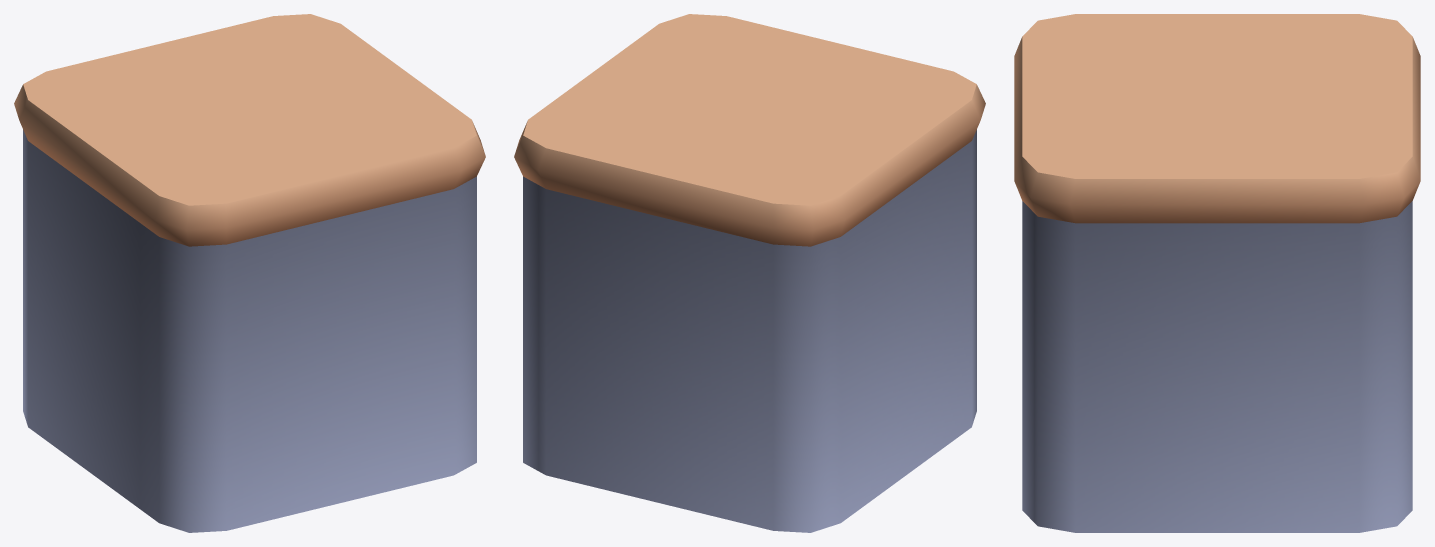
The model's file is block-grass-large-tall.glb.
3 renders of one model, left to right at view 1: azimuth 30°, elevation 25°; view 2: azimuth 150°, elevation 25°; view 3: azimuth 270°, elevation 25°, orthographic. The views are drawn at different scales.
Visible parts, largest first — view 1: block-grass-large-tall; view 2: block-grass-large-tall; view 3: block-grass-large-tall.
Part boxes in pixels (x1,y1,x2,y2): block-grass-large-tall: (14, 14, 485, 532); block-grass-large-tall: (514, 14, 985, 532); block-grass-large-tall: (1014, 14, 1420, 532).
Size of the model in its own units: 2.08 by 2 by 2.08.
